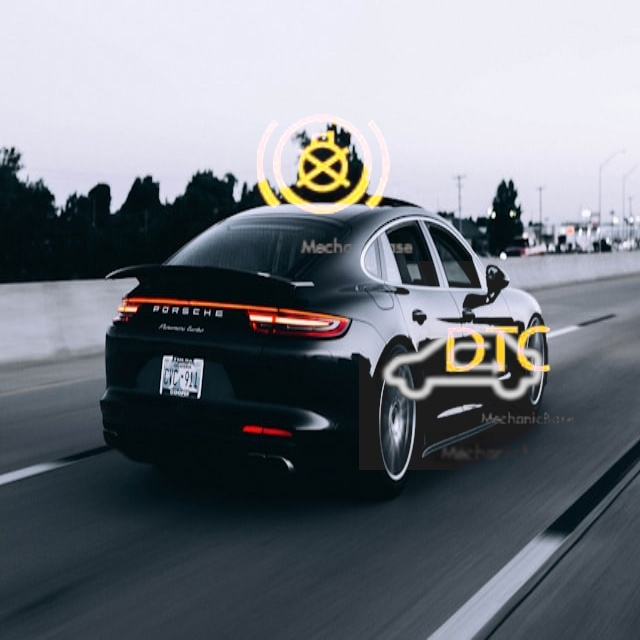symbol: (359, 261, 568, 470), (225, 68, 420, 263), (417, 269, 580, 432)
